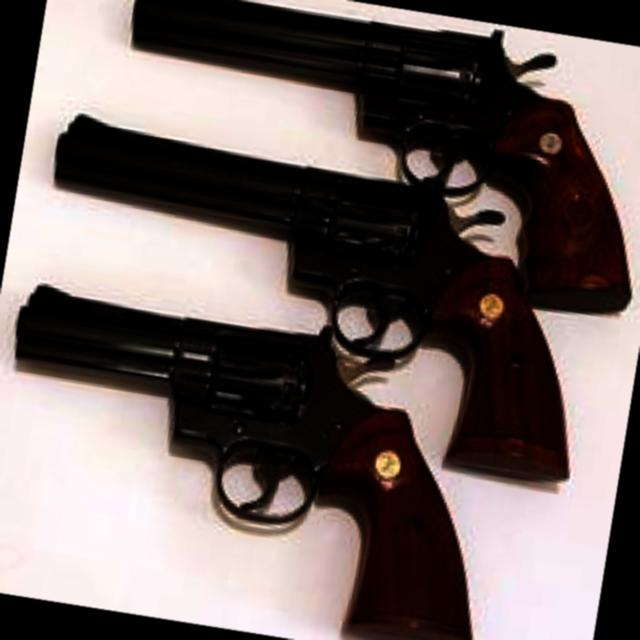revolver: (87, 0, 640, 318)
